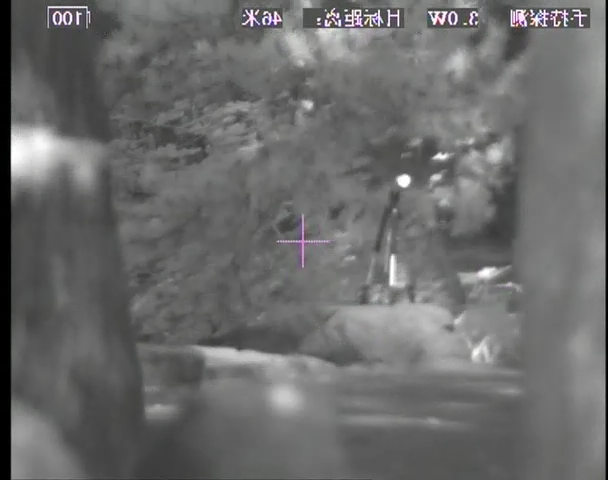my: (395, 173, 410, 189)
